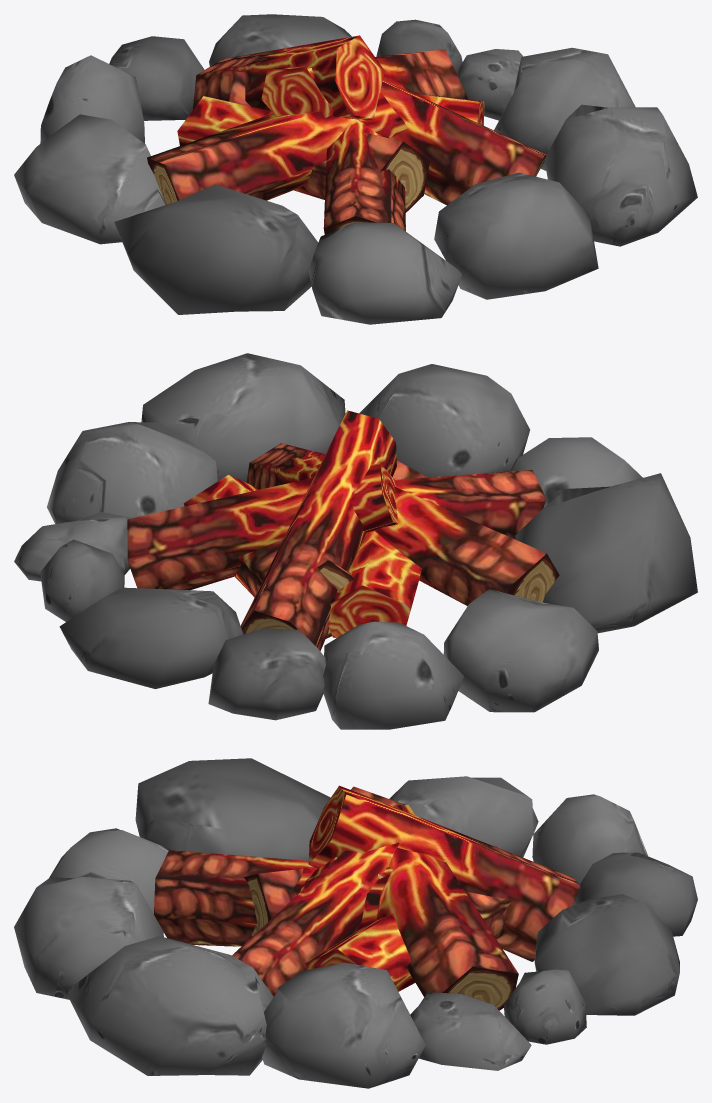
Rendered from SM_PROP_campfire.glb.
3 views of the same model, one above another, from view 1: azimuth 30°, elevation 25°; view 2: azimuth 150°, elevation 25°; view 3: azimuth 270°, elevation 25° (orthographic). The views are drawn at different scales.
Parts seen in each view (by area): view 1: SM_PROP_campfire_EXPORT; view 2: SM_PROP_campfire_EXPORT; view 3: SM_PROP_campfire_EXPORT.
Boxes of the visible parts, x1,y1,x2,y2 form: SM_PROP_campfire_EXPORT: [14, 14, 697, 324]; SM_PROP_campfire_EXPORT: [14, 353, 697, 729]; SM_PROP_campfire_EXPORT: [14, 758, 697, 1088].
Size of the model in its own units: 1.02 by 0.3275 by 1.05.
2 materials, 2 textured.
